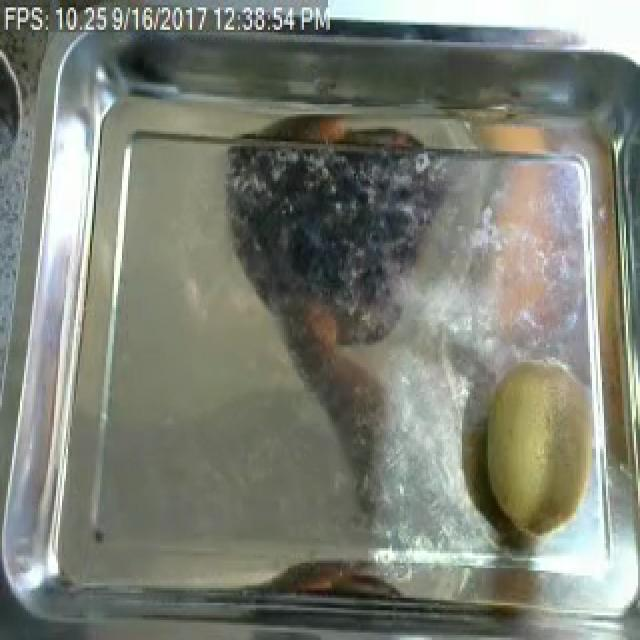Fruit: (462, 350, 610, 543)
